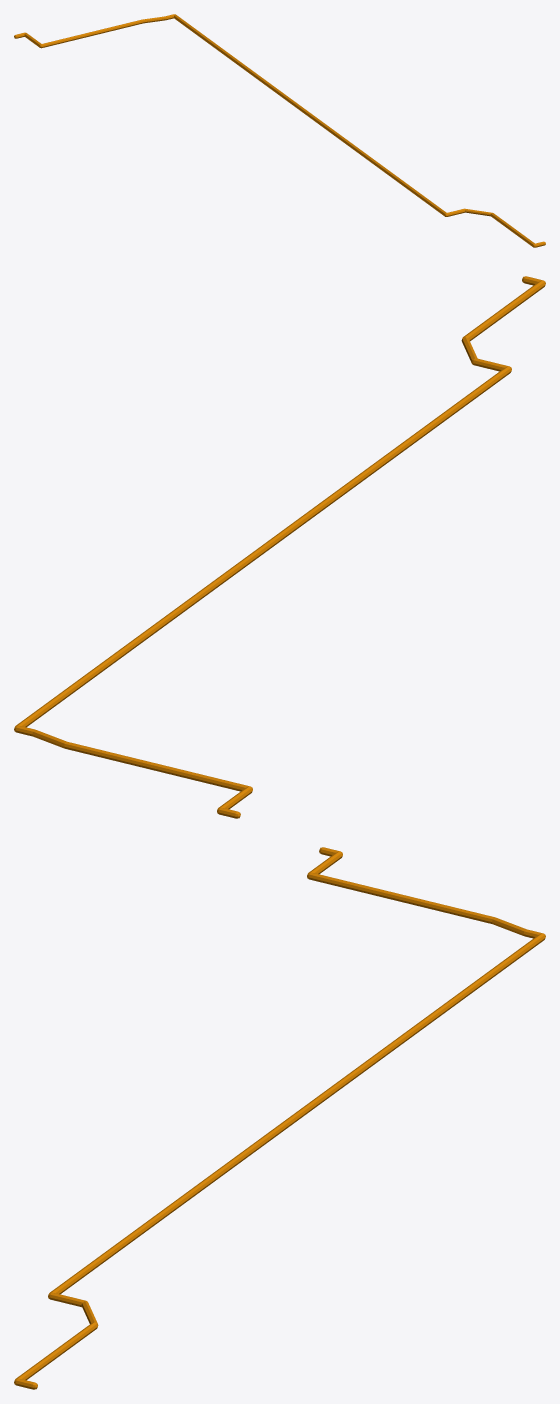
The picture shows the model from 3 angles, top to bottom: view 1: azimuth 30°, elevation 25°; view 2: azimuth 150°, elevation 25°; view 3: azimuth 330°, elevation 25°; orthographic projection. The views are drawn at different scales.
Bounding box in the file's own units: 1017 × 20 × 3245.
